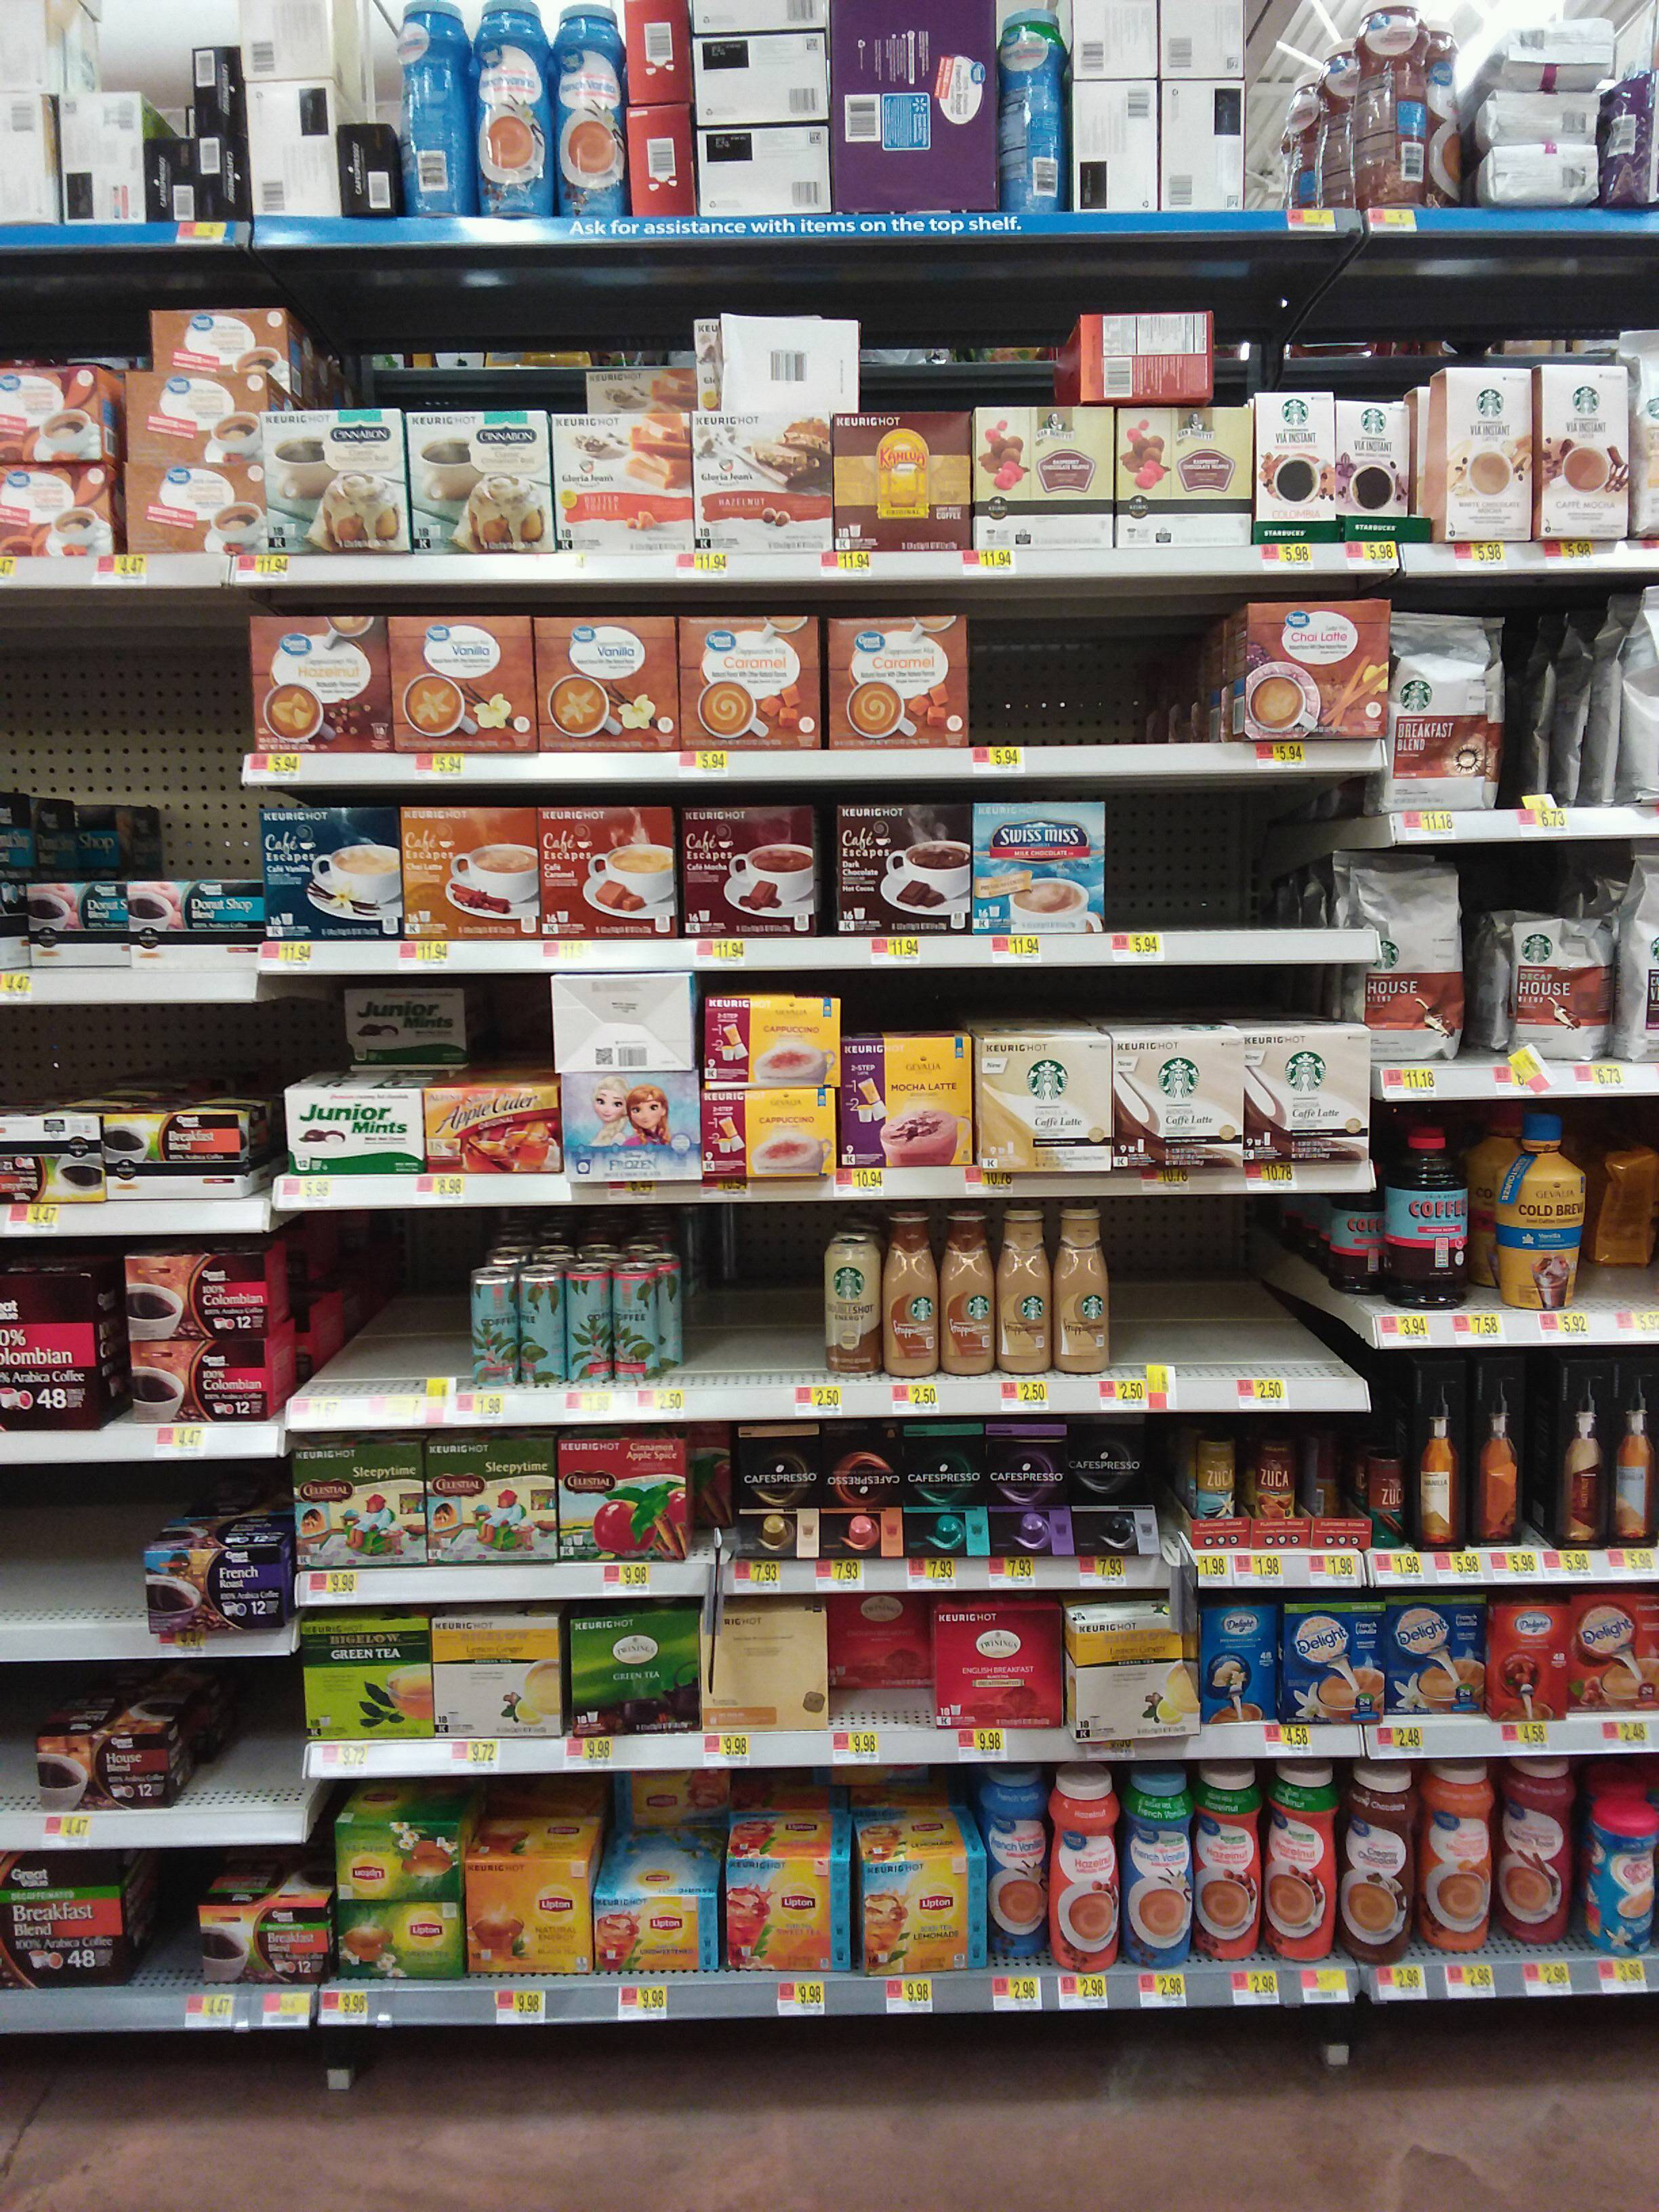Misplacement: (826, 1594, 936, 1731)
Out-of-stock: (1110, 1198, 1359, 1378)
